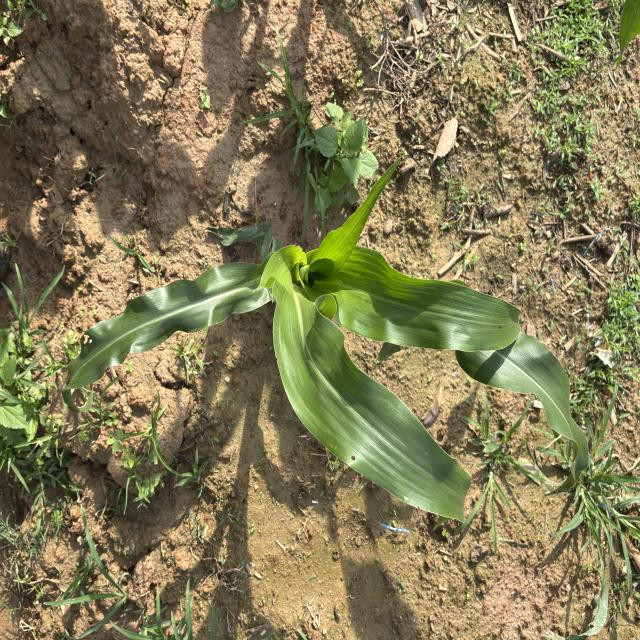maize: (168, 232, 470, 504), (486, 296, 561, 407)
weed: (450, 20, 640, 272), (87, 394, 219, 634), (486, 426, 640, 572), (3, 284, 74, 588), (260, 70, 374, 207), (586, 306, 640, 419)
